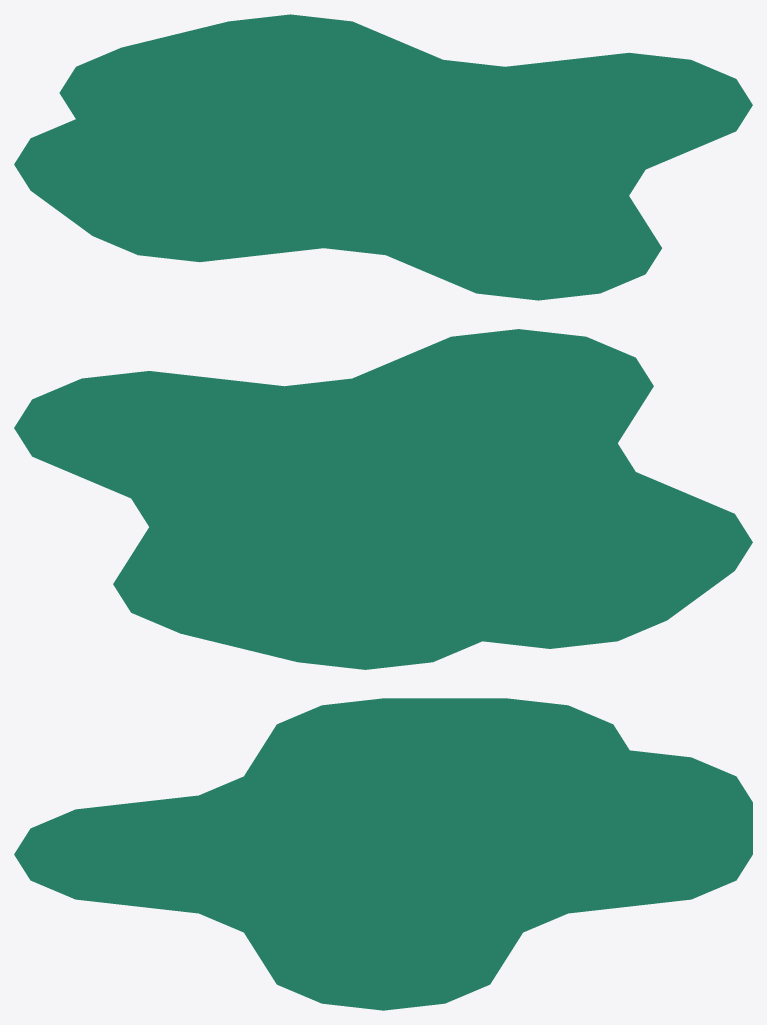
Rendered from kp_mdl_patch_grass.glb.
3 views of the same model, one above another, from view 1: azimuth 30°, elevation 25°; view 2: azimuth 150°, elevation 25°; view 3: azimuth 270°, elevation 25° (orthographic). The views are drawn at different scales.
Visible parts, largest first — view 1: patch-grass; view 2: patch-grass; view 3: patch-grass.
Boxes of the visible parts, x1,y1,x2,y2 form: patch-grass: (14, 14, 752, 300); patch-grass: (14, 329, 752, 669); patch-grass: (14, 698, 752, 1010).
Bounding box in the file's own units: 1.2 × 0 × 1.2.
1 material, 1 textured.
